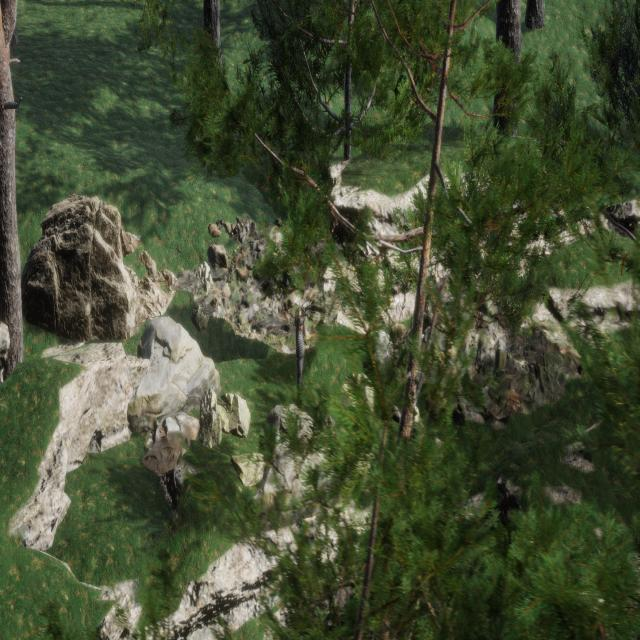Human: (296, 298, 308, 402)
